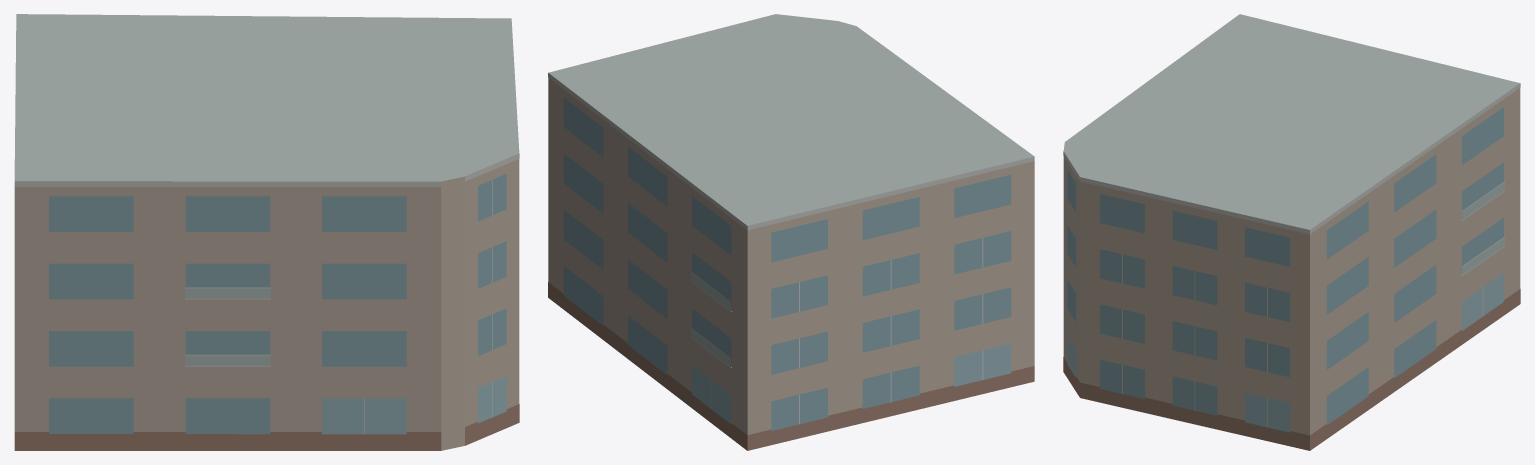
The model's file is survey-upis-32645026.glb.
3 views of the same model, side by side, from view 1: azimuth 30°, elevation 25°; view 2: azimuth 150°, elevation 25°; view 3: azimuth 270°, elevation 25° (orthographic). The views are drawn at different scales.
Parts seen in each view (by area): view 1: survey-upis-32645026.tmp; view 2: survey-upis-32645026.tmp; view 3: survey-upis-32645026.tmp.
Part boxes in pixels (x1,y1,x2,y2): survey-upis-32645026.tmp: (14,14,519,450); survey-upis-32645026.tmp: (548,14,1034,450); survey-upis-32645026.tmp: (1063,14,1520,450).
Bounding box in the file's own units: 25.59 × 12.2 × 22.87.
